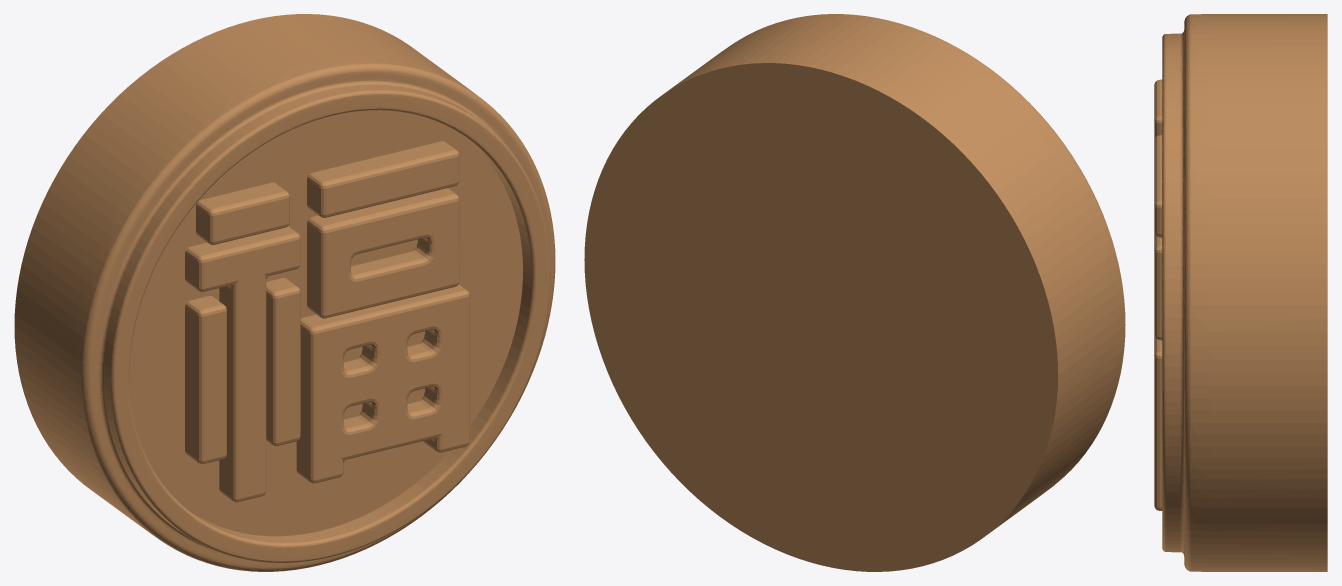
The model's file is Bok.glb.
3 views of the same model, side by side, from view 1: azimuth 30°, elevation 25°; view 2: azimuth 150°, elevation 25°; view 3: azimuth 270°, elevation 25° (orthographic). The views are drawn at different scales.
Parts seen in each view (by area): view 1: Circle.468; view 2: Circle.468; view 3: Circle.468.
Boxes of the visible parts, x1,y1,x2,y2 form: Circle.468: [14, 14, 555, 571]; Circle.468: [584, 14, 1125, 571]; Circle.468: [1154, 14, 1327, 571].
Bounding box in the file's own units: 13.83 × 13.83 × 4.3.
